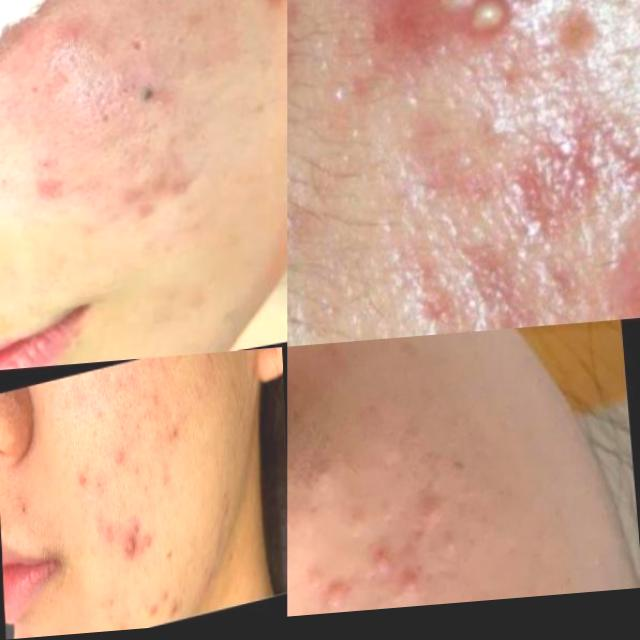8: (42, 13, 96, 66), (306, 569, 354, 620), (130, 77, 180, 125), (416, 485, 456, 533), (136, 525, 158, 567), (98, 516, 118, 554), (144, 596, 162, 625), (110, 445, 126, 472)
9: (466, 7, 506, 53), (369, 544, 401, 586), (399, 572, 429, 607), (438, 0, 469, 21), (123, 533, 140, 568), (488, 0, 552, 2)
blackheads: (98, 166, 203, 239), (28, 170, 82, 215), (245, 0, 288, 24)
dark spot: (1, 393, 33, 447), (164, 419, 184, 450)
